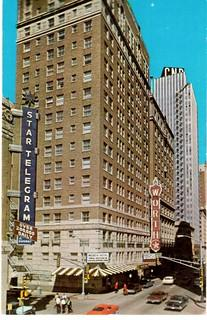building: (10, 1, 177, 281)
